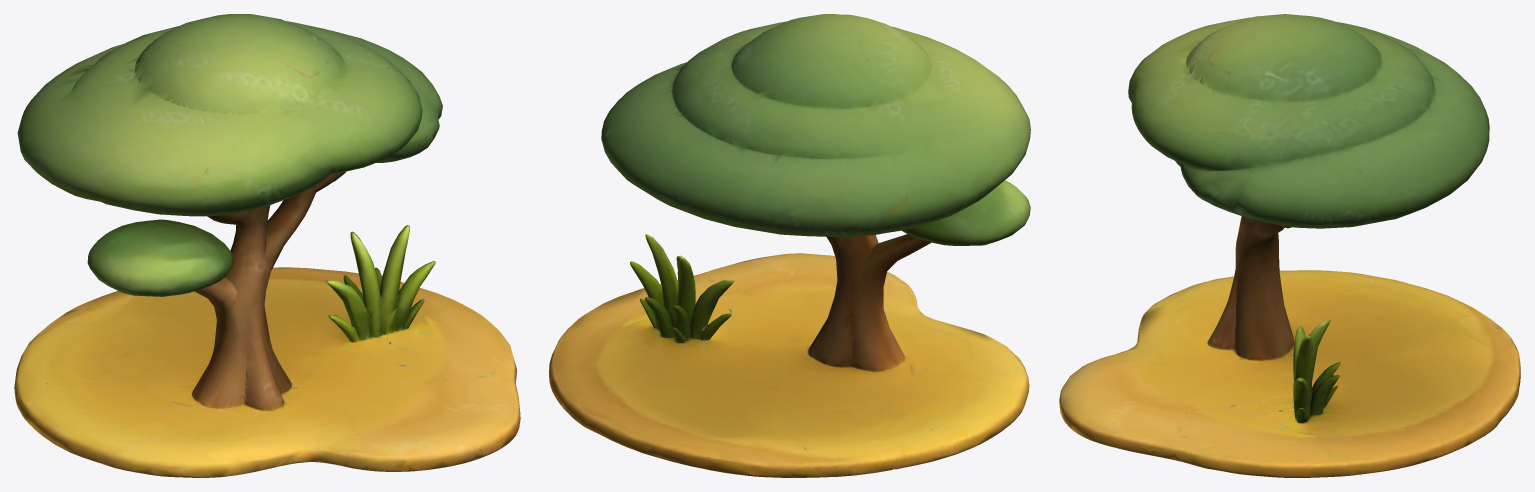
The model's file is acacia_pbr.glb.
3 renders of one model, left to right at view 1: azimuth 30°, elevation 25°; view 2: azimuth 150°, elevation 25°; view 3: azimuth 270°, elevation 25°, orthographic. The views are drawn at different scales.
Visible parts, largest first — view 1: model; view 2: model; view 3: model.
Part boxes in pixels (box(x1,y1,x2,y2)): model: box(14, 14, 520, 477); model: box(549, 14, 1030, 477); model: box(1059, 14, 1520, 477).
Size of the model in its own units: 1.85 by 1.46 by 1.82.
1 material, 1 textured.
